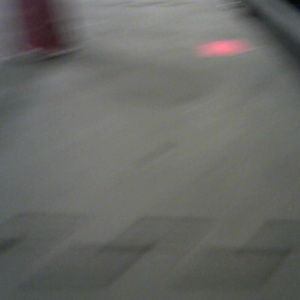Middle: (13, 1, 66, 61)
